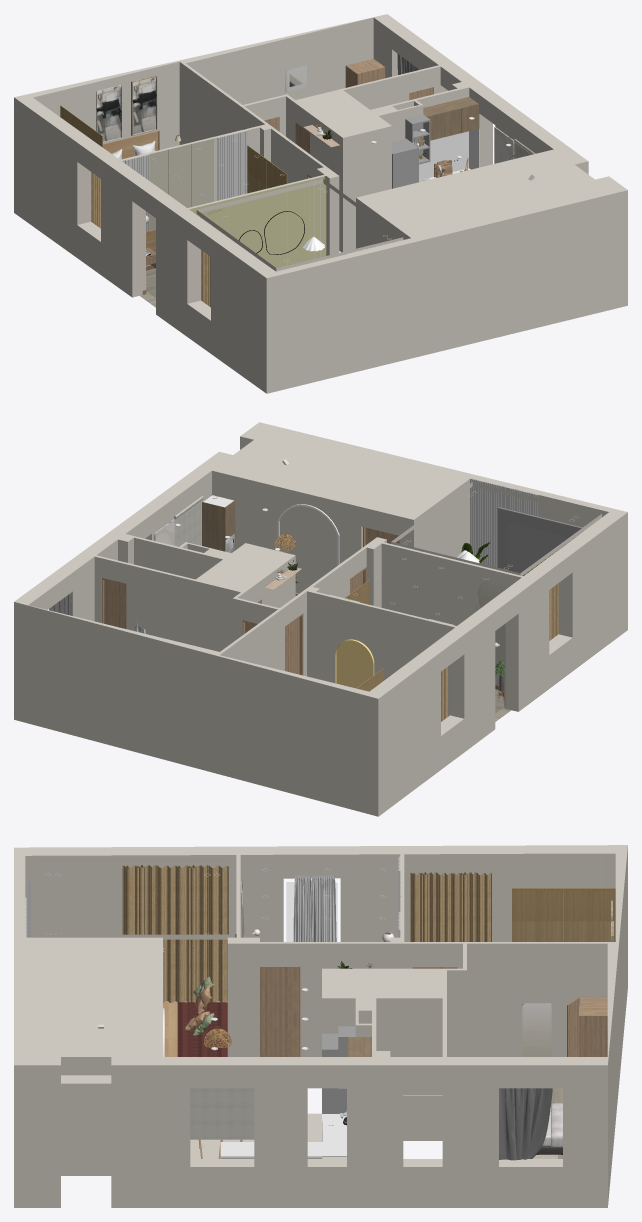
The model's file is burgos-floor-2-1.glb.
3 views of the same model, one above another, from view 1: azimuth 30°, elevation 25°; view 2: azimuth 150°, elevation 25°; view 3: azimuth 270°, elevation 25° (orthographic). The views are drawn at different scales.
Visible parts, largest first — view 1: 3DGeom-493, 3DGeom-1711, 3DGeom-1704, 3DGeom-9, 3DGeom-940, 3DGeom-495, 3DGeom-901, 3DGeom-498, 3DGeom-485, 3DGeom-641, 3DGeom-48, 3DGeom-113 (+2 smaller); view 2: 3DGeom-493, 3DGeom-485, 3DGeom-940, 3DGeom-136, 3DGeom-1244, 3DGeom-93, 3DGeom-498, 3DGeom-674, 3DGeom-48, 3DGeom-17, 3DGeom-901; view 3: 3DGeom-493, 3DGeom-48, 3DGeom-485, 3DGeom-901, 3DGeom-435, 3DGeom-674, 3DGeom-11, 3DGeom-1083, 3DGeom-17, 3DGeom-85, 3DGeom-641, 3DGeom-113 (+3 smaller).
Part boxes in pixels (<box>): 3DGeom-493: <box>14,14,627,393</box>; 3DGeom-1711: <box>190,176,325,267</box>; 3DGeom-1704: <box>149,138,213,230</box>; 3DGeom-9: <box>96,77,514,159</box>; 3DGeom-940: <box>125,130,411,254</box>; 3DGeom-495: <box>419,129,479,182</box>; 3DGeom-901: <box>60,105,287,193</box>; 3DGeom-498: <box>423,97,478,140</box>; 3DGeom-485: <box>146,59,433,265</box>; 3DGeom-641: <box>392,138,418,188</box>; 3DGeom-48: <box>91,172,239,307</box>; 3DGeom-113: <box>103,130,159,268</box>; 3DGeom-493: <box>14,422,627,816</box>; 3DGeom-485: <box>101,527,399,675</box>; 3DGeom-940: <box>329,478,537,625</box>; 3DGeom-136: <box>508,522,573,572</box>; 3DGeom-1244: <box>497,507,582,573</box>; 3DGeom-93: <box>335,639,374,688</box>; 3DGeom-498: <box>202,495,235,552</box>; 3DGeom-674: <box>174,496,203,546</box>; 3DGeom-48: <box>441,547,561,721</box>; 3DGeom-17: <box>175,495,479,578</box>; 3DGeom-901: <box>345,580,384,691</box>; 3DGeom-493: <box>14,845,627,1207</box>; 3DGeom-48: <box>122,865,491,1002</box>; 3DGeom-485: <box>260,967,607,1056</box>; 3DGeom-901: <box>512,888,615,941</box>; 3DGeom-435: <box>499,1088,552,1160</box>; 3DGeom-674: <box>190,1088,254,1139</box>; 3DGeom-11: <box>293,875,336,941</box>; 3DGeom-1083: <box>177,1002,227,1056</box>; 3DGeom-17: <box>163,948,442,1156</box>; 3DGeom-85: <box>240,880,551,1056</box>; 3DGeom-641: <box>322,1033,346,1156</box>; 3DGeom-113: <box>163,1001,227,1056</box>.
Size of the model in its own units: 9.27 by 3.19 by 10.92.
151 materials, 94 textured.
